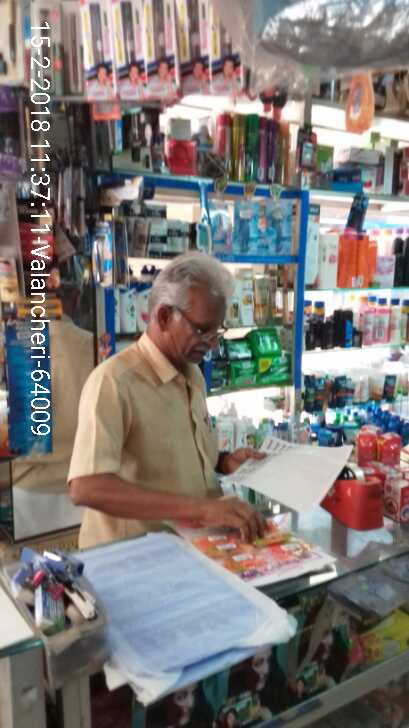gillete: (95, 213, 114, 285), (116, 213, 127, 285)
venus: (262, 198, 292, 260), (233, 199, 262, 259), (211, 199, 233, 251)
